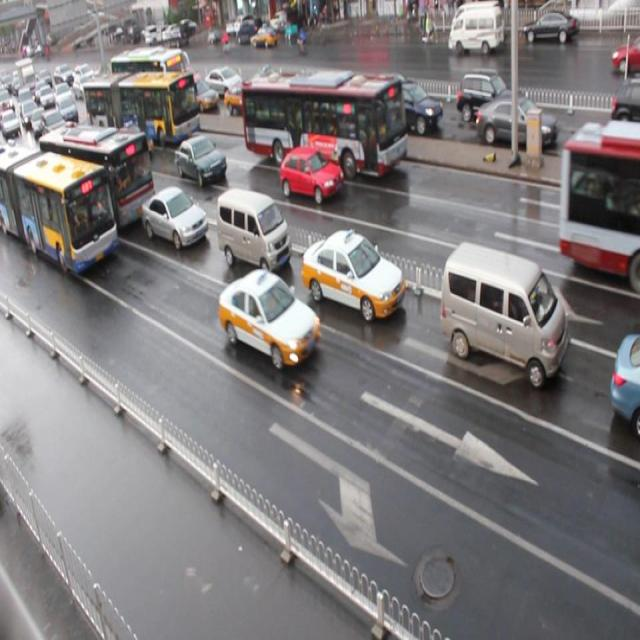car: (218, 268, 320, 367), (300, 228, 404, 321), (141, 185, 208, 250), (279, 146, 343, 204), (175, 134, 226, 184)
truck: (440, 240, 568, 386), (216, 186, 292, 276)
van: (241, 71, 406, 177), (0, 143, 119, 277), (558, 120, 640, 294), (38, 121, 156, 232), (85, 71, 200, 144)
